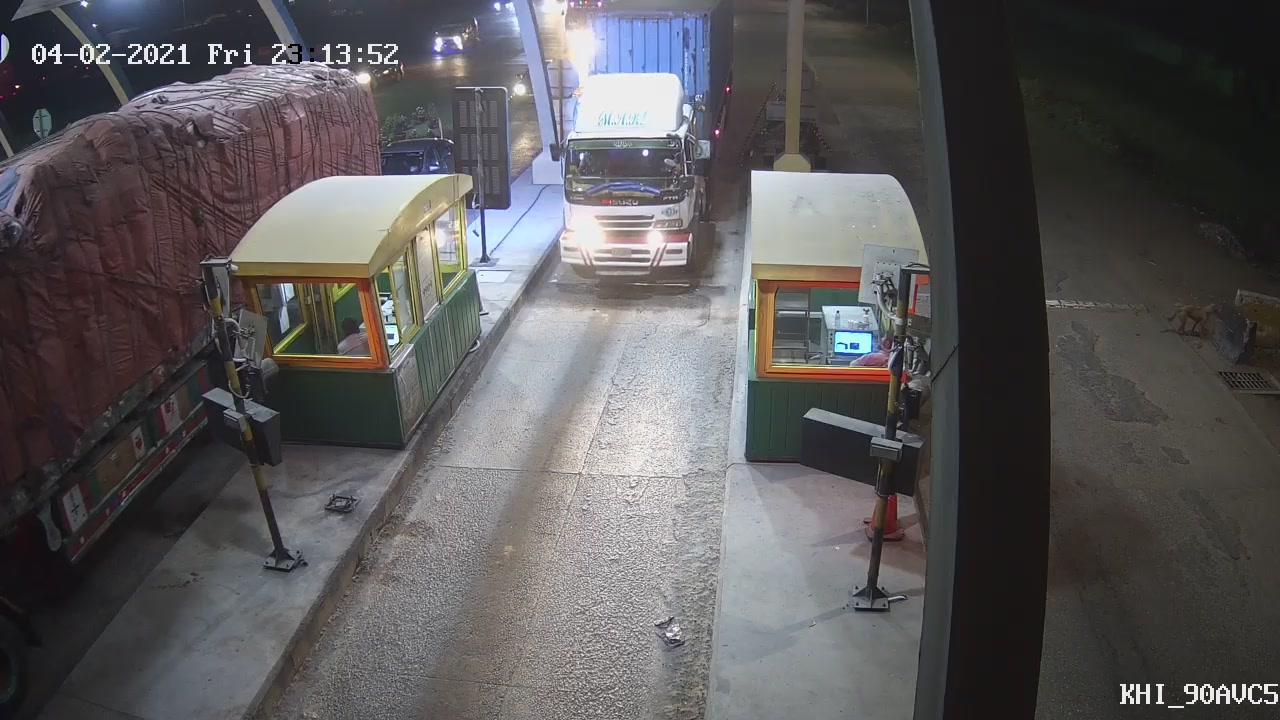F6: (541, 6, 725, 295)
